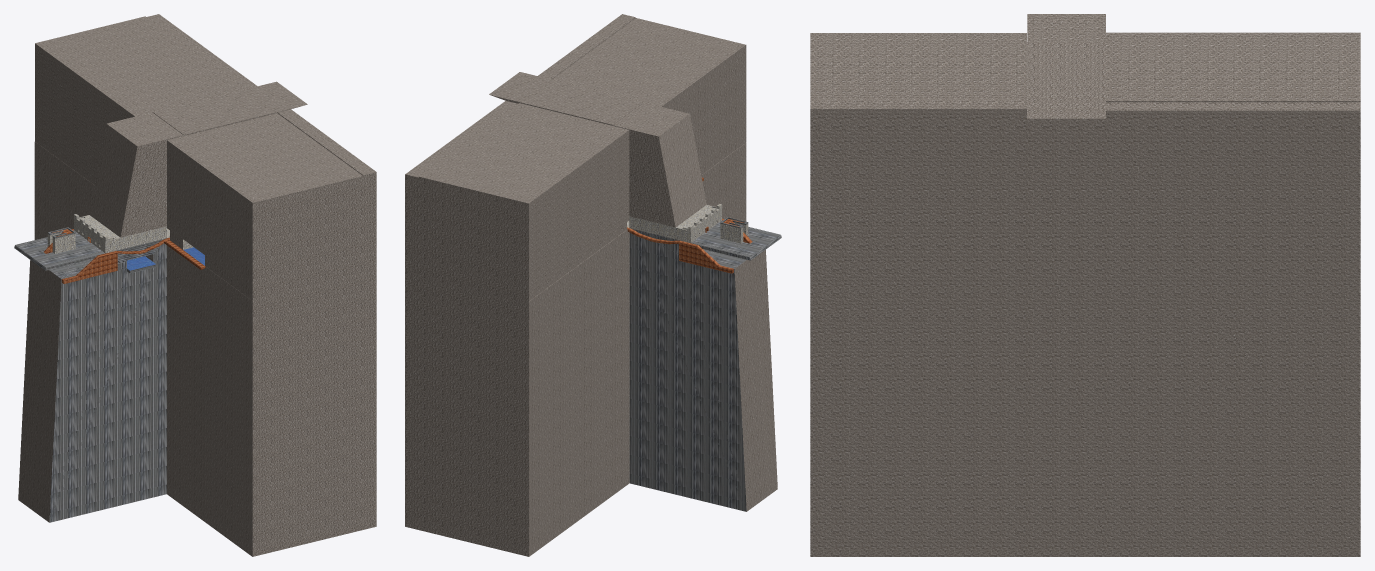
The model's file is MountainDM.glb.
3 renders of one model, left to right at view 1: azimuth 30°, elevation 25°; view 2: azimuth 150°, elevation 25°; view 3: azimuth 270°, elevation 25°, orthographic. The views are drawn at different scales.
Parts seen in each view (by area): view 1: Cube, Cube.005, Cube.002, Cube.004, Cube.001; view 2: Cube, Cube.005, Cube.002, Cube.003, Cube.001; view 3: Cube, Cube.005.
Part boxes in pixels (box(x1,y1,x2,y2)): Cube: box(14, 14, 376, 556); Cube.005: box(89, 112, 183, 237); Cube.002: box(74, 214, 166, 253); Cube.004: box(62, 238, 205, 283); Cube.001: box(44, 227, 75, 253); Cube: box(405, 14, 781, 556); Cube.005: box(612, 102, 706, 227); Cube.002: box(629, 204, 722, 242); Cube.003: box(627, 228, 733, 273); Cube.001: box(720, 217, 752, 243); Cube: box(810, 32, 1360, 556); Cube.005: box(1027, 14, 1105, 41).
Bounding box in the file's own units: 206 × 266 × 296.
6 materials, 6 textured.
